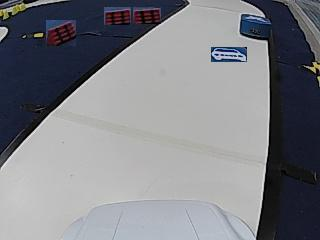prop: (239, 14, 271, 39)
